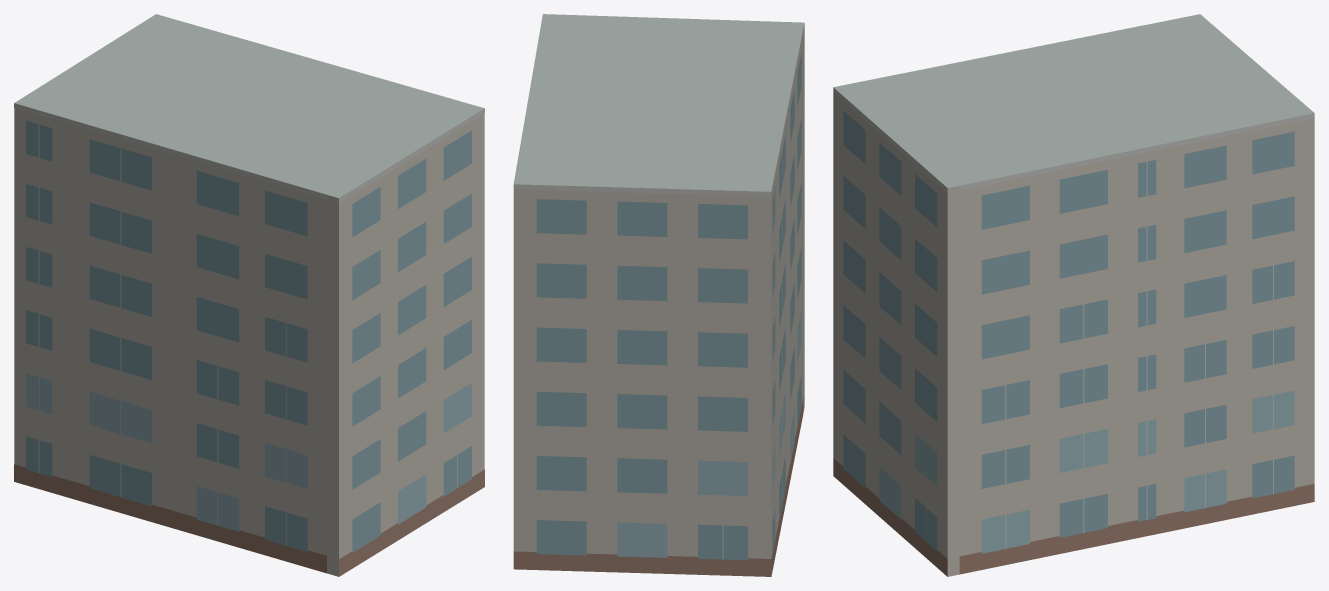
File: survey-upis-32730132.glb
3 views of the same model, side by side, from view 1: azimuth 30°, elevation 25°; view 2: azimuth 150°, elevation 25°; view 3: azimuth 270°, elevation 25° (orthographic). The views are drawn at different scales.
Parts seen in each view (by area): view 1: survey-upis-32730132.tmp; view 2: survey-upis-32730132.tmp; view 3: survey-upis-32730132.tmp.
Part boxes in pixels (bbox=[...]): survey-upis-32730132.tmp: bbox=[14, 14, 484, 576]; survey-upis-32730132.tmp: bbox=[513, 14, 804, 576]; survey-upis-32730132.tmp: bbox=[833, 14, 1314, 576].
Size of the model in its own units: 18.07 by 18.8 by 21.11.
